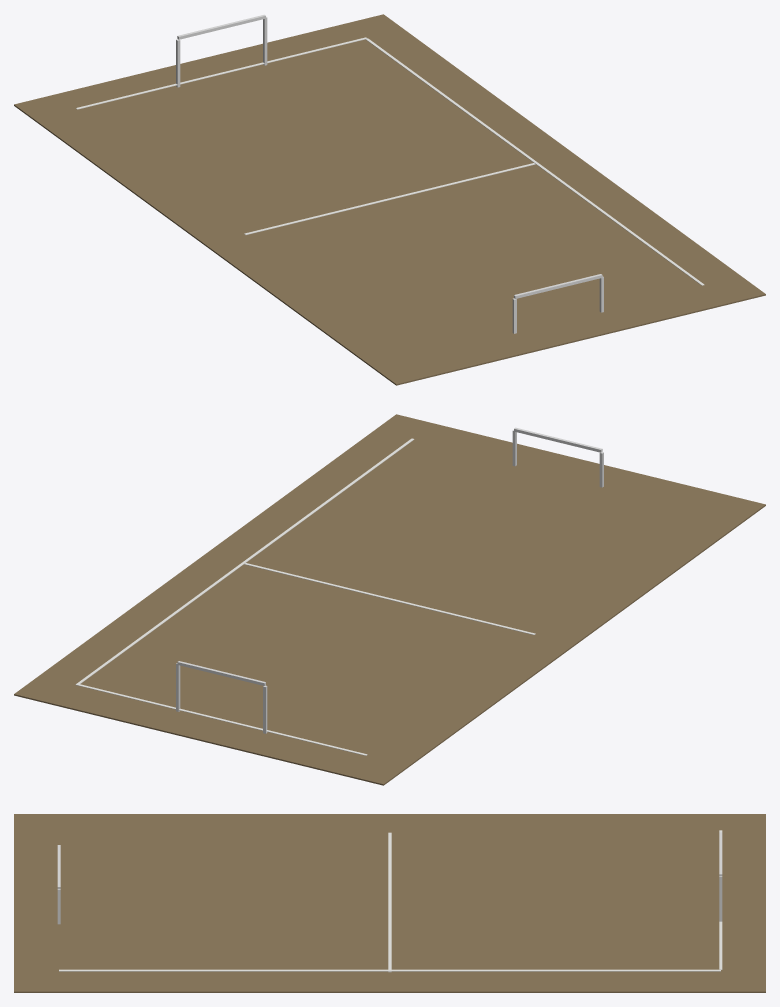
Rendered from nd_pitch_1000027786.glb.
The picture shows the model from 3 angles, top to bottom: view 1: azimuth 30°, elevation 25°; view 2: azimuth 150°, elevation 25°; view 3: azimuth 270°, elevation 25°; orthographic projection.
Parts seen in each view (by area): view 1: nd_pitch_1000027786_lod0; view 2: nd_pitch_1000027786_lod0; view 3: nd_pitch_1000027786_lod0.
Boxes of the visible parts, box(x1,y1,x2,y2) form: nd_pitch_1000027786_lod0: box(14, 14, 765, 385); nd_pitch_1000027786_lod0: box(14, 414, 765, 785); nd_pitch_1000027786_lod0: box(14, 814, 765, 992).
Size of what is drawn, in the model's own units: 16.3 by 2.68 by 29.2.
